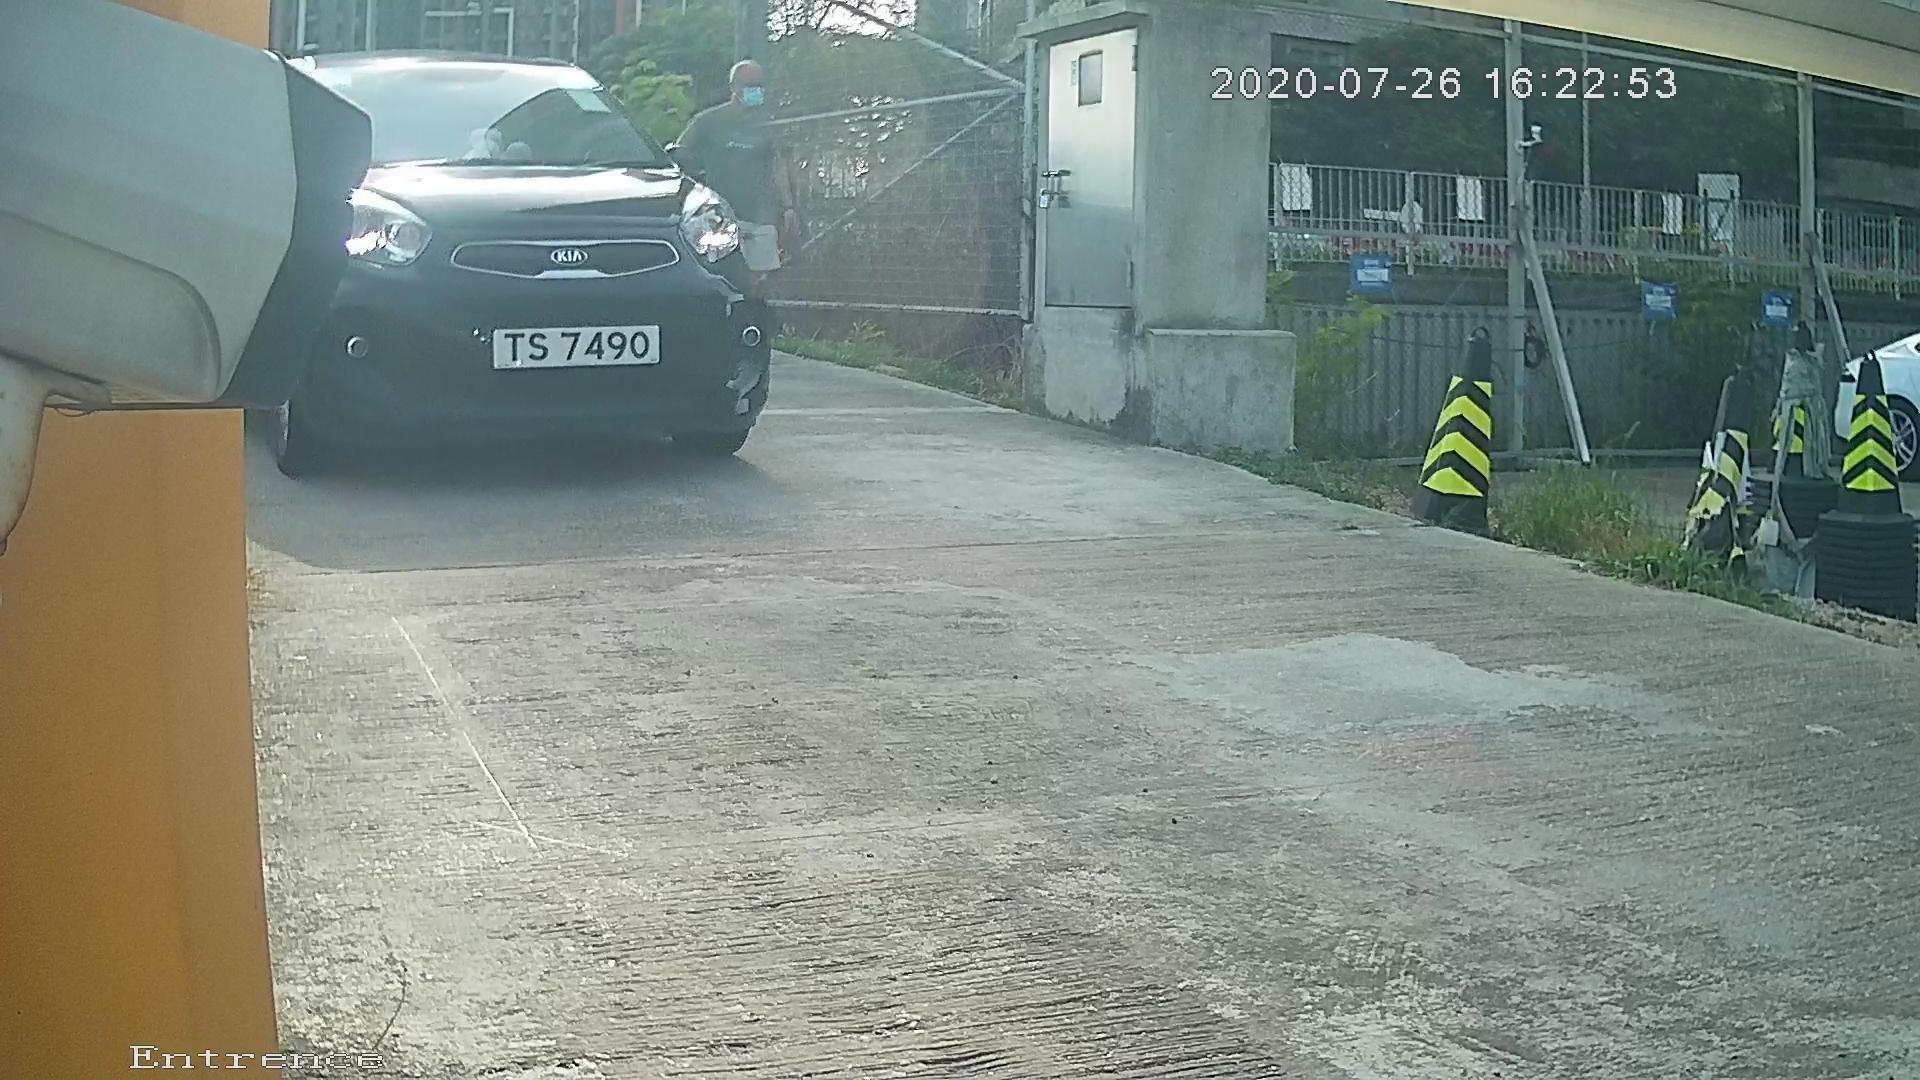privatecar: (179, 15, 849, 521)
